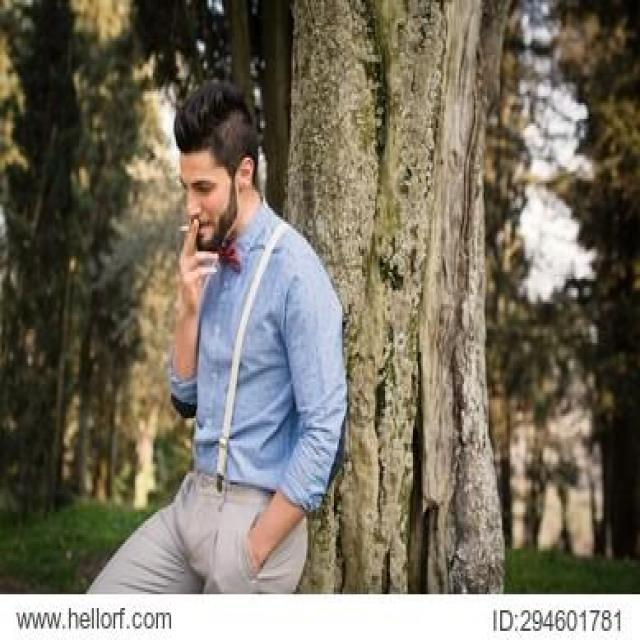Сигарета: (179, 225, 194, 232)
Тело: (83, 81, 345, 596)
